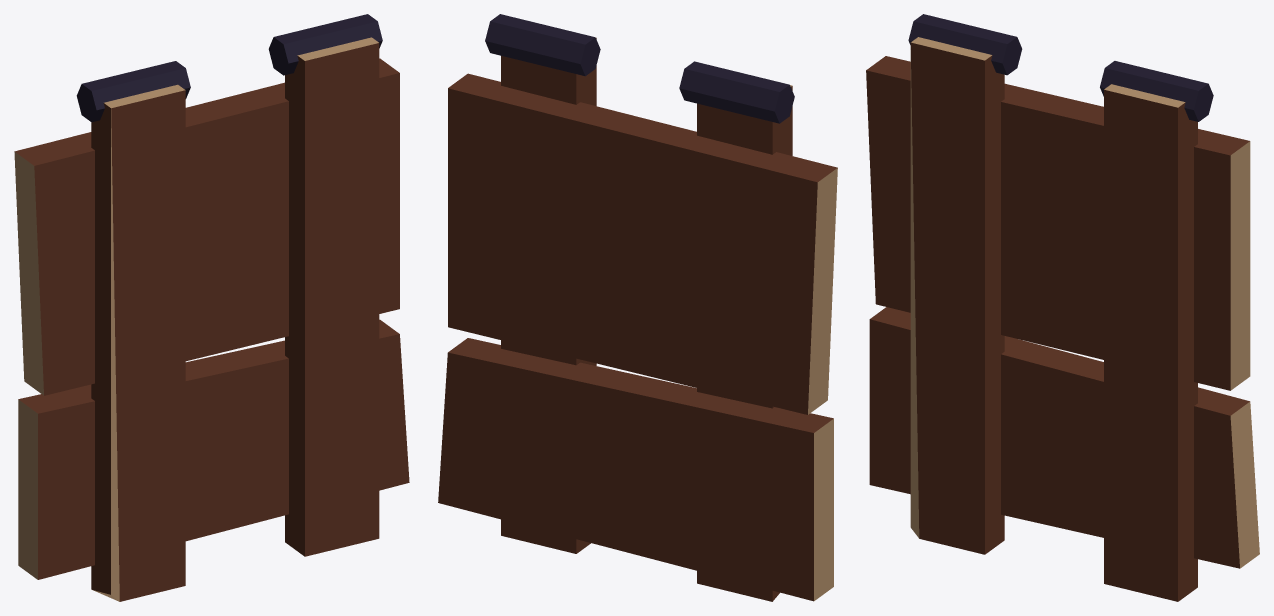
The model's file is MCastle_Hatch.FBX.
3 views of the same model, side by side, from view 1: azimuth 30°, elevation 25°; view 2: azimuth 150°, elevation 25°; view 3: azimuth 330°, elevation 25° (orthographic).
Visible parts, largest first — view 1: MCastle_Hatch; view 2: MCastle_Hatch; view 3: MCastle_Hatch.
Boxes of the visible parts, x1,y1,x2,y2 form: MCastle_Hatch: (14,14,409,601); MCastle_Hatch: (438,14,837,601); MCastle_Hatch: (866,14,1259,601).
Size of the model in its own units: 52.62 by 67.93 by 8.72.
